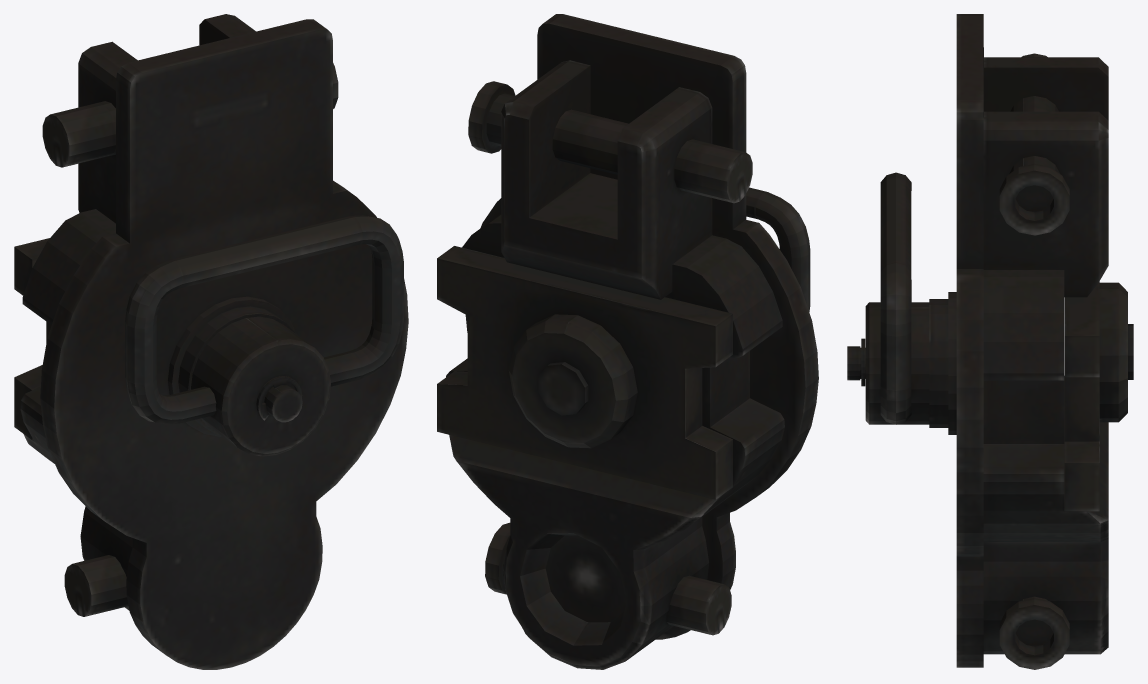
The picture shows the model from 3 angles, left to right: view 1: azimuth 30°, elevation 25°; view 2: azimuth 150°, elevation 25°; view 3: azimuth 270°, elevation 25°; orthographic projection. The views are drawn at different scales.
Visible parts, largest first — view 1: TW_5d2f25bc48f03502573e5d85_PZ_Import; view 2: TW_5d2f25bc48f03502573e5d85_PZ_Import; view 3: TW_5d2f25bc48f03502573e5d85_PZ_Import.
Boxes of the visible parts, box(x1,y1,x2,y2) form: TW_5d2f25bc48f03502573e5d85_PZ_Import: box(14, 14, 408, 669); TW_5d2f25bc48f03502573e5d85_PZ_Import: box(437, 14, 818, 669); TW_5d2f25bc48f03502573e5d85_PZ_Import: box(847, 14, 1133, 669).
Bounding box in the file's own units: 0.0226 × 0.0162 × 0.0375.
1 material, 1 textured.
